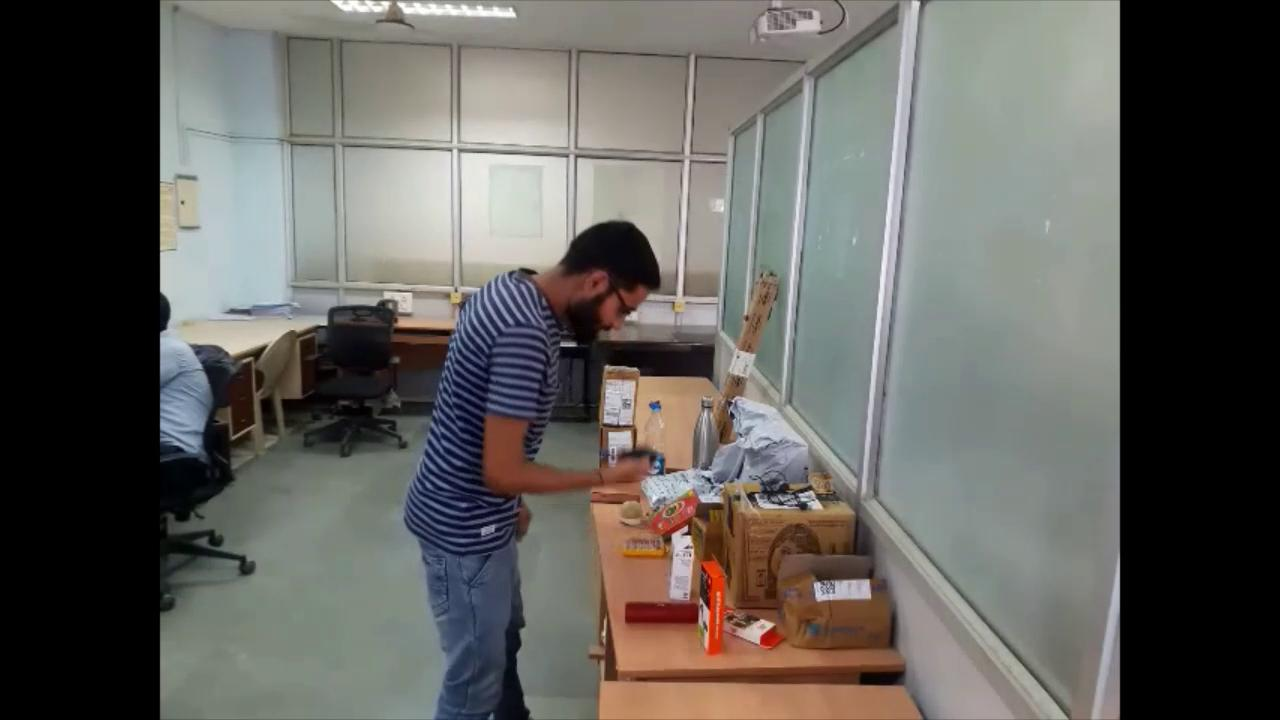Normal: (395, 214, 661, 720)
